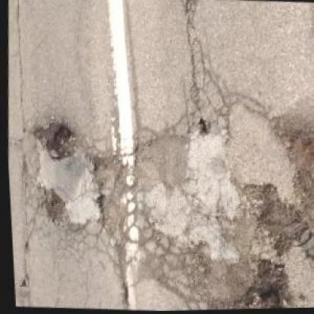Hueco: (250, 180, 308, 249), (234, 254, 288, 309), (31, 119, 78, 162), (38, 187, 67, 222), (192, 116, 210, 135)
